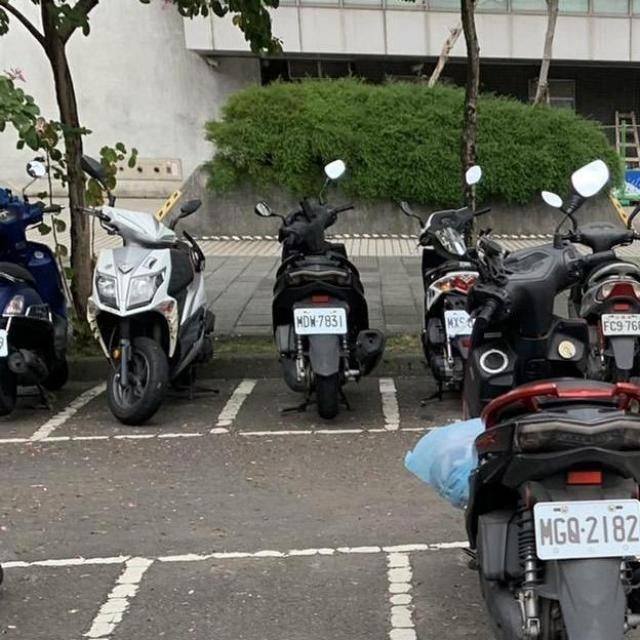W: (523, 493, 640, 563), (288, 304, 353, 338), (434, 304, 481, 340), (593, 306, 640, 339), (0, 323, 13, 365)
